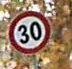limite 30: (6, 11, 52, 53)
